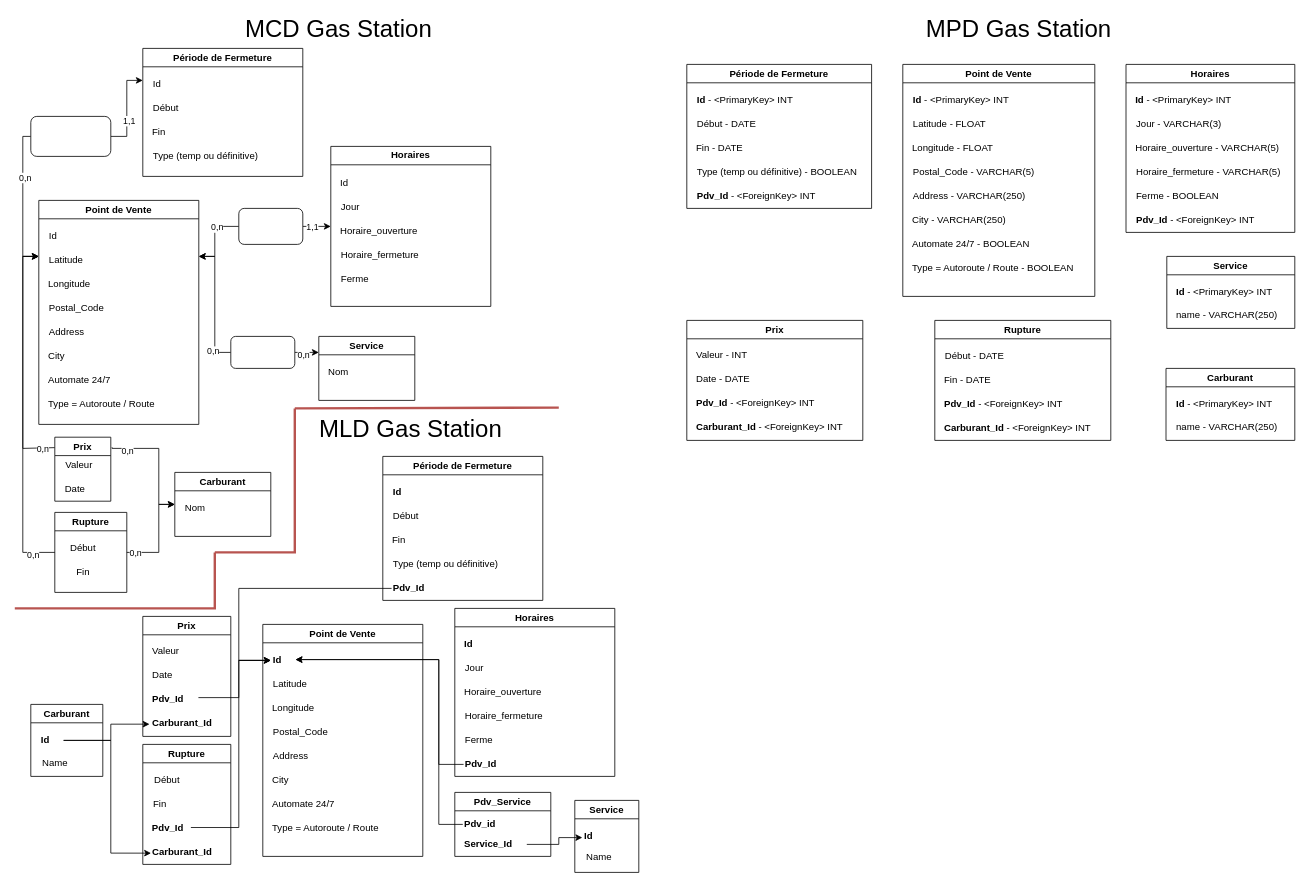
This 1309x886 diagram has some shape labels left out. The centre of each missing label's shape, as x and y in pixels:
Disposer: the point at 262,352
Fermer: the point at 70,136
Ouvrir: the point at 270,226
